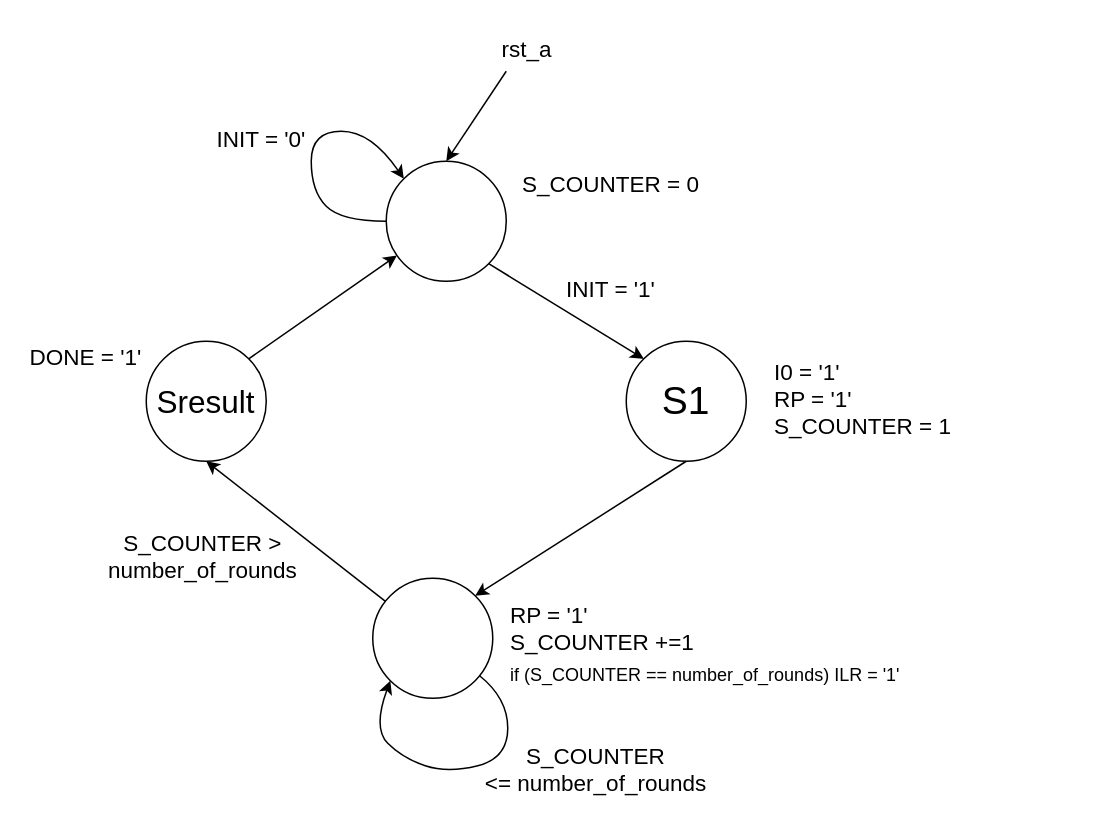
This 1112x821 diagram has some shape labels left out. The shapes that lost their labels are listed below. From the top down, each one's centre as x and y in pixels, then its label:
At point (445, 220): "S0".
At point (432, 637): "Scalc".
